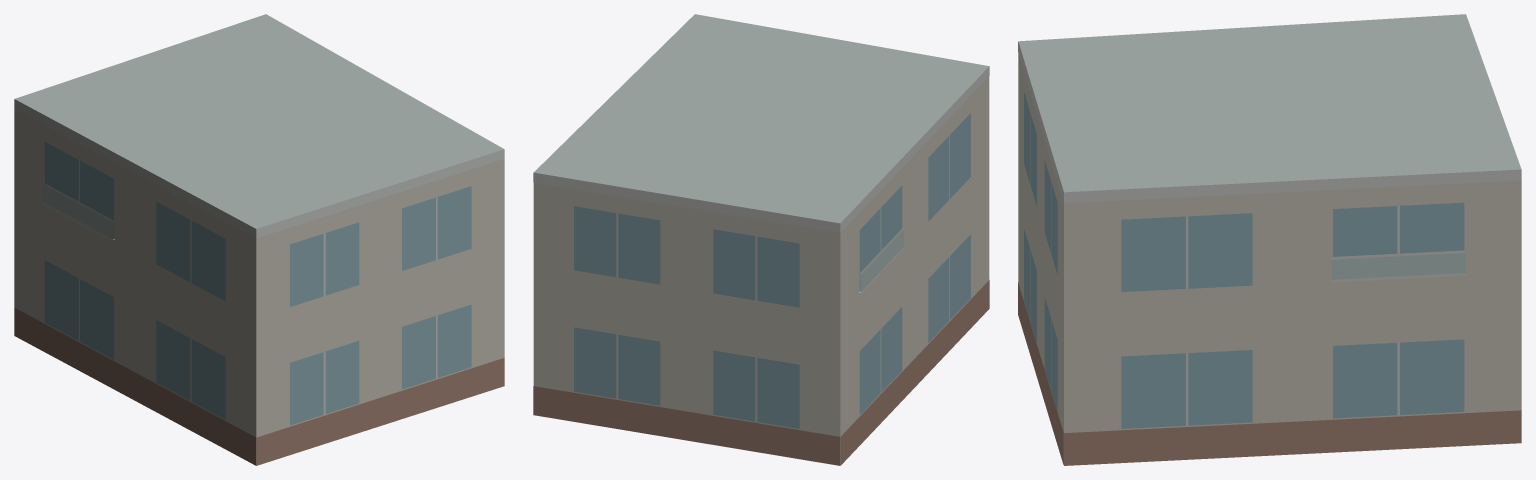
File: survey-upis-32926317.glb
3 views of the same model, side by side, from view 1: azimuth 30°, elevation 25°; view 2: azimuth 150°, elevation 25°; view 3: azimuth 270°, elevation 25° (orthographic). The views are drawn at different scales.
Parts seen in each view (by area): view 1: survey-upis-32926317.tmp; view 2: survey-upis-32926317.tmp; view 3: survey-upis-32926317.tmp.
Boxes of the visible parts, left/top/right/bottom form: survey-upis-32926317.tmp: left=14, top=14, right=504, bottom=465; survey-upis-32926317.tmp: left=533, top=14, right=989, bottom=465; survey-upis-32926317.tmp: left=1018, top=14, right=1521, bottom=465.
Size of the model in its own units: 8.53 by 6.1 by 10.18.
